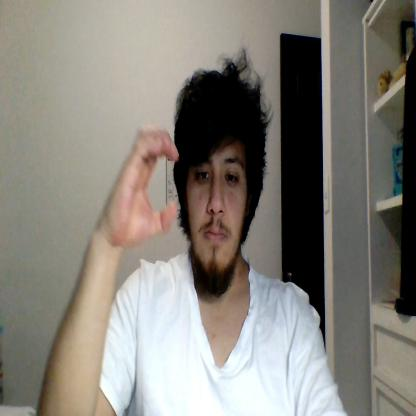C: (106, 126, 179, 243)
